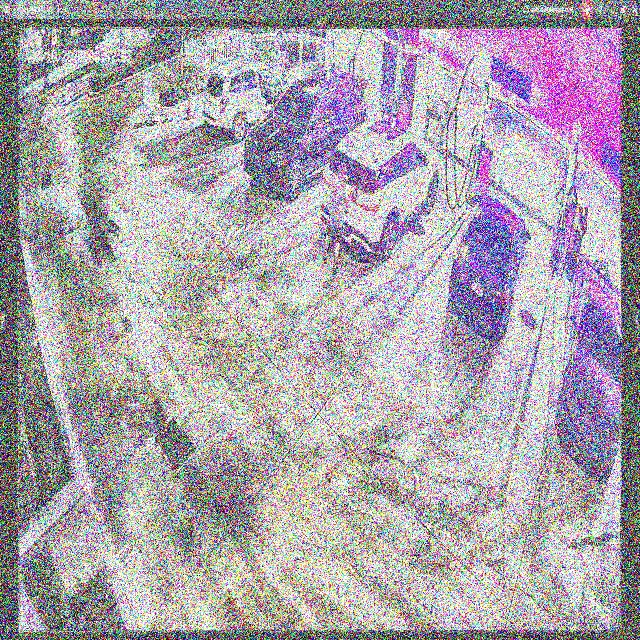Car: (323, 116, 440, 258), (246, 68, 367, 194), (448, 196, 531, 335)
